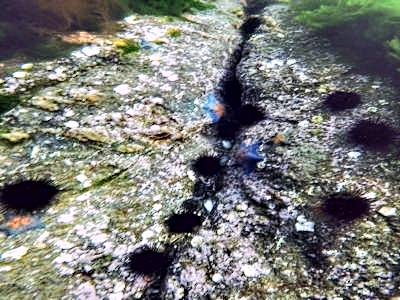urchin: (4, 178, 55, 211), (317, 191, 365, 221), (345, 119, 389, 151), (131, 249, 166, 273), (326, 89, 362, 112), (162, 211, 199, 233), (232, 105, 262, 126), (192, 154, 217, 174), (215, 118, 240, 137)
